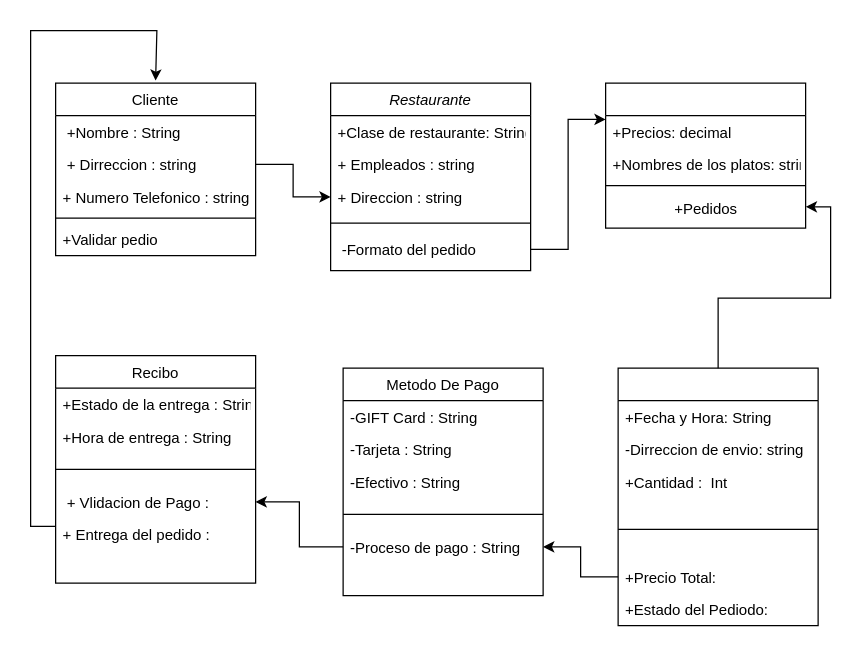
Image size: 863x651. Some labels were removed from this diagram. The box of each missing label's shape, as (x1, y1, x2, y2) in pixels:
Menu: (604, 82, 806, 228)
Pedido: (617, 367, 818, 626)
